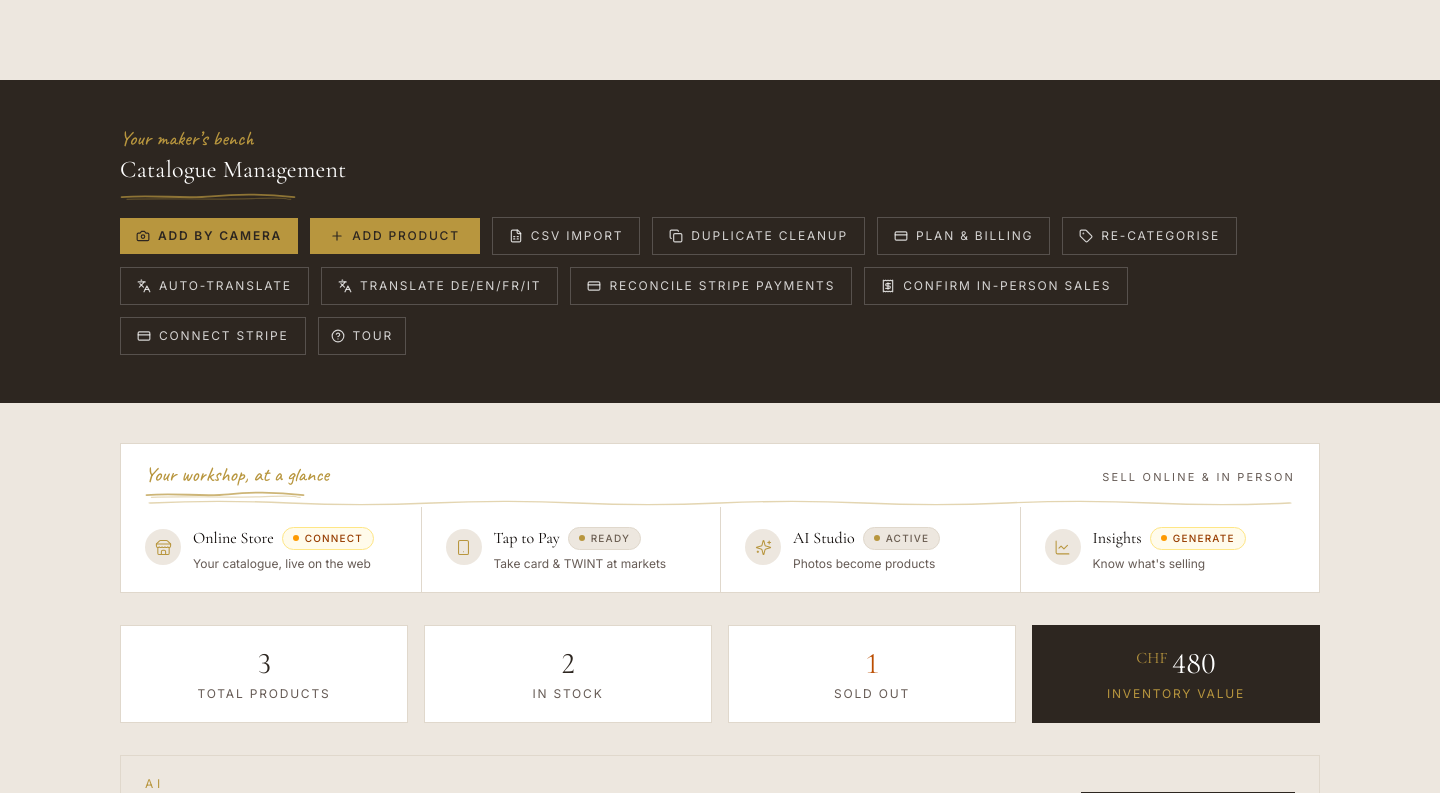
Test: Admin page — add product › checks for duplicates, then creates with parsed values
The width and height of the screenshot is (1440, 793).
Click the button "Add Product" at {"x": 395, "y": 236}, box x1=310 y1=218 x2=480 y2=254
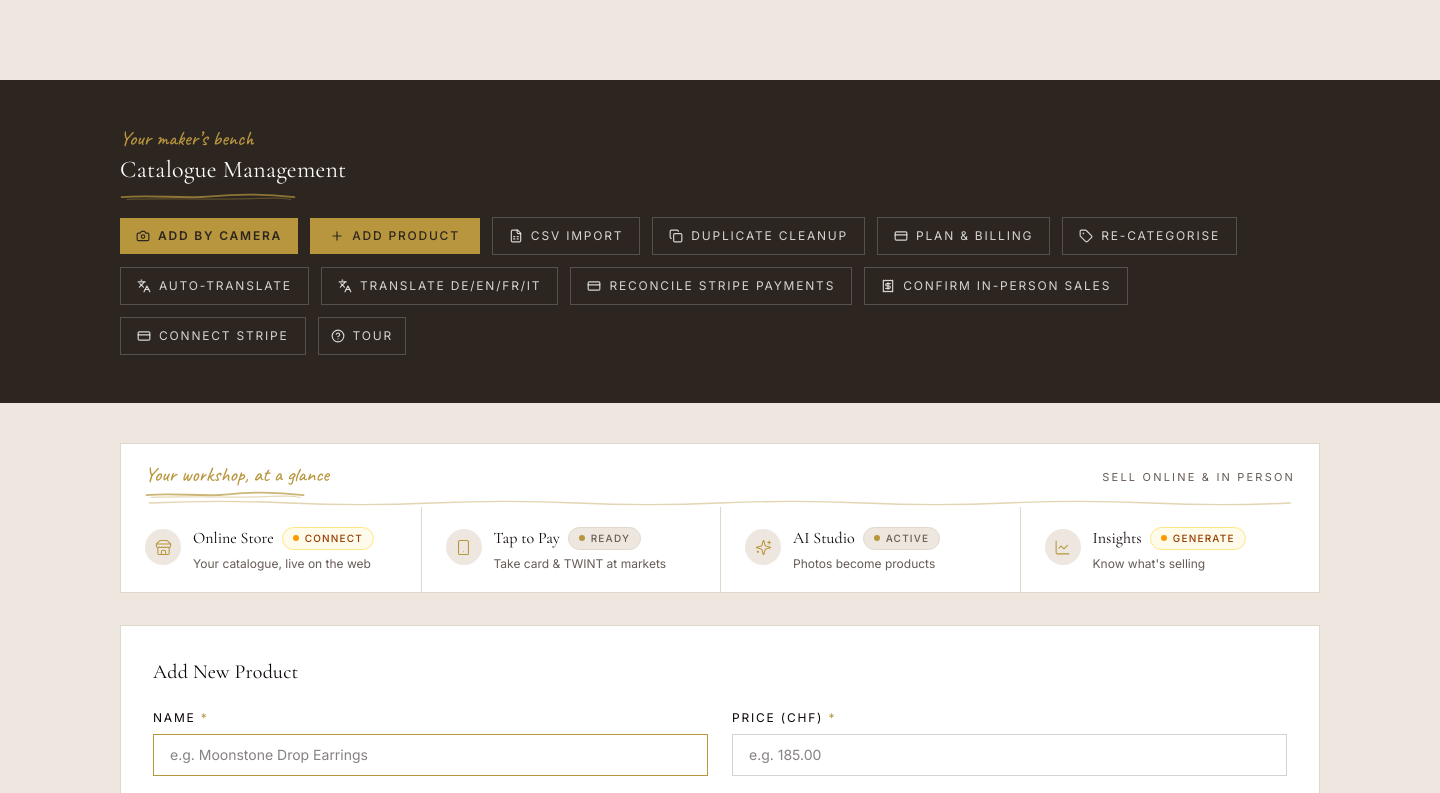
Type "Mondstein Ohrringe" into the field labelled "Name *" at {"x": 430, "y": 755}, box x1=153 y1=734 x2=708 y2=776
Type "185.50" into the number field labelled "Price (CHF) *" at {"x": 1010, "y": 755}, box x1=732 y1=734 x2=1287 y2=776
(page scrolled)
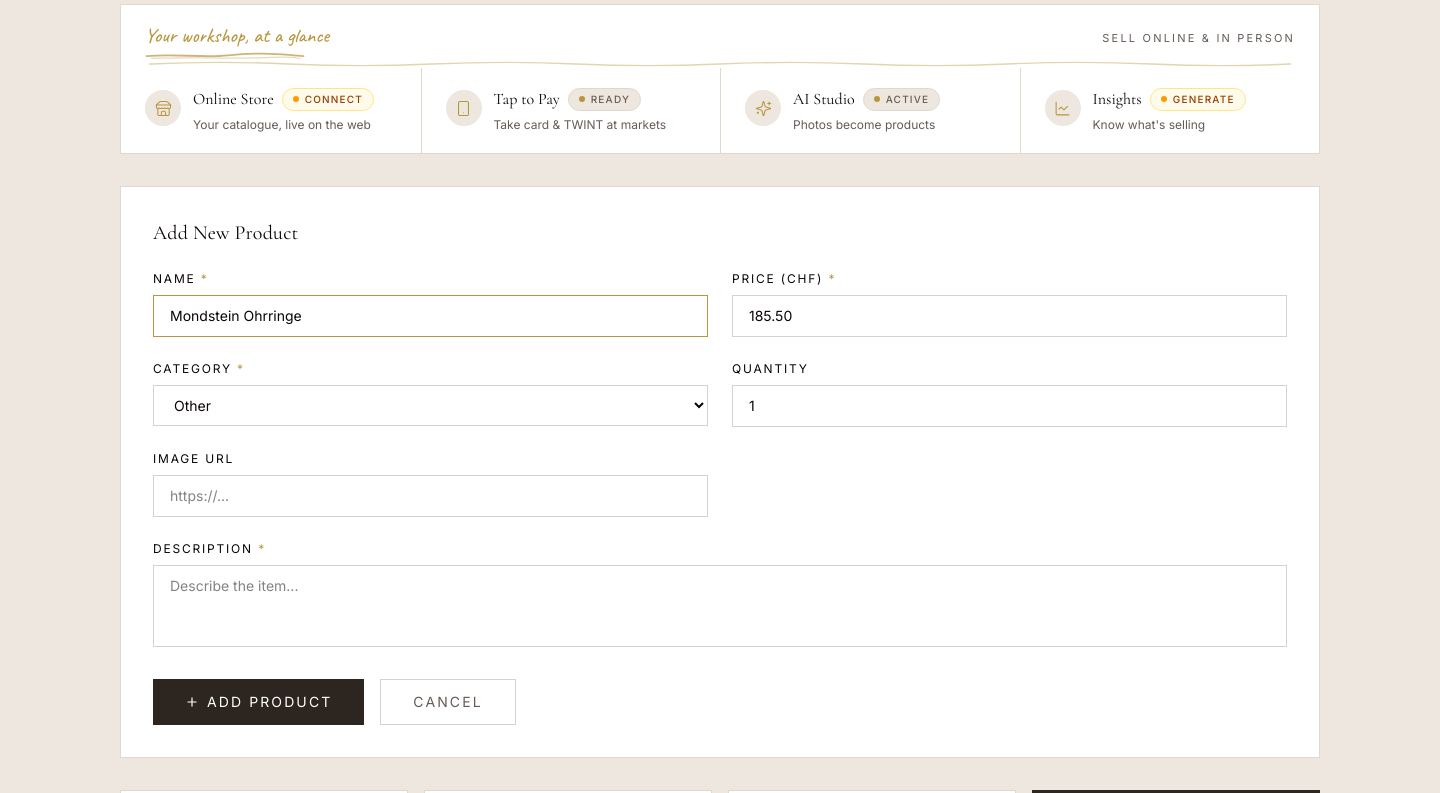
Select "Earrings" in the dropdown labelled "Category *" at {"x": 430, "y": 406}, box x1=153 y1=385 x2=708 y2=426
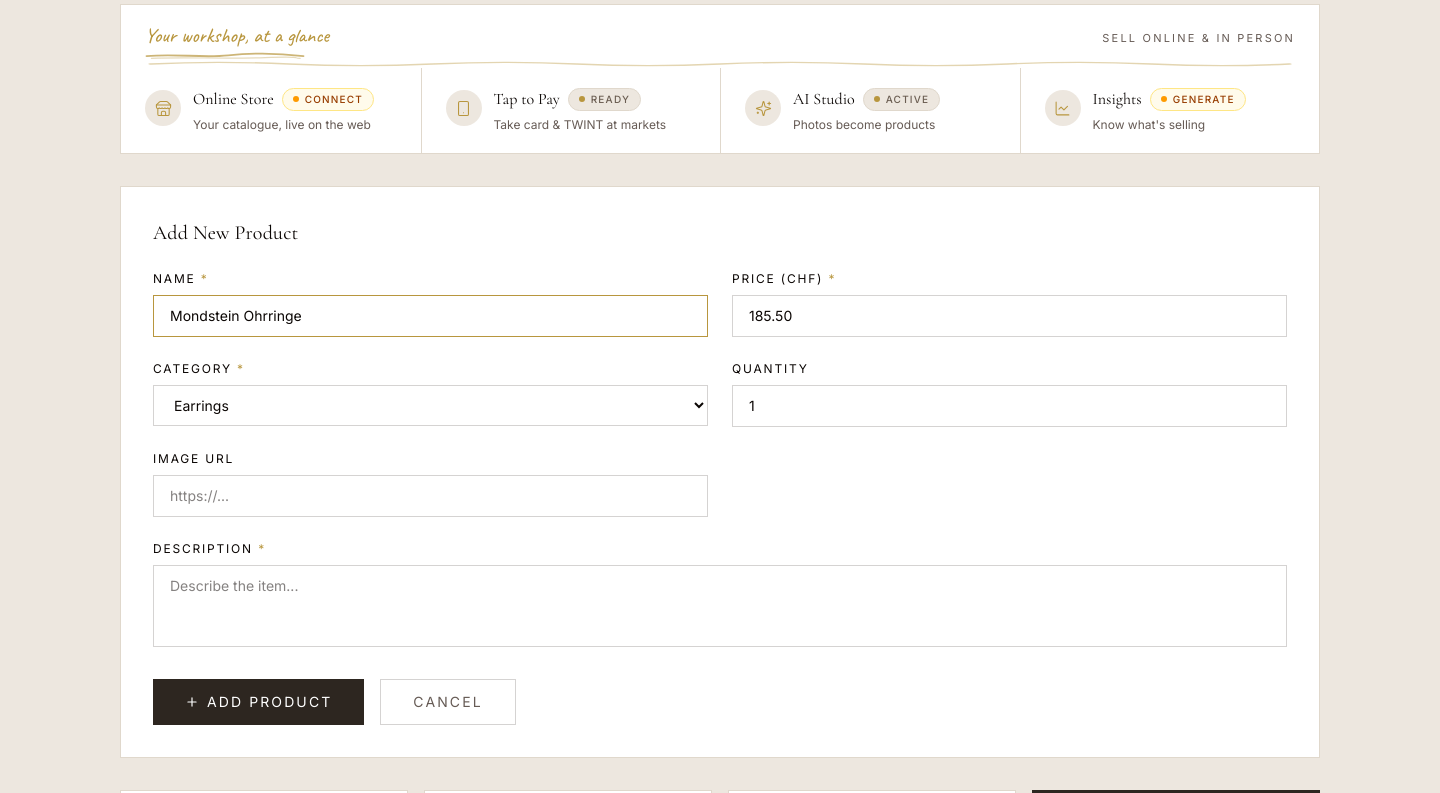
Type "3" into the number field labelled "Quantity" at {"x": 1010, "y": 406}, box x1=732 y1=385 x2=1287 y2=427
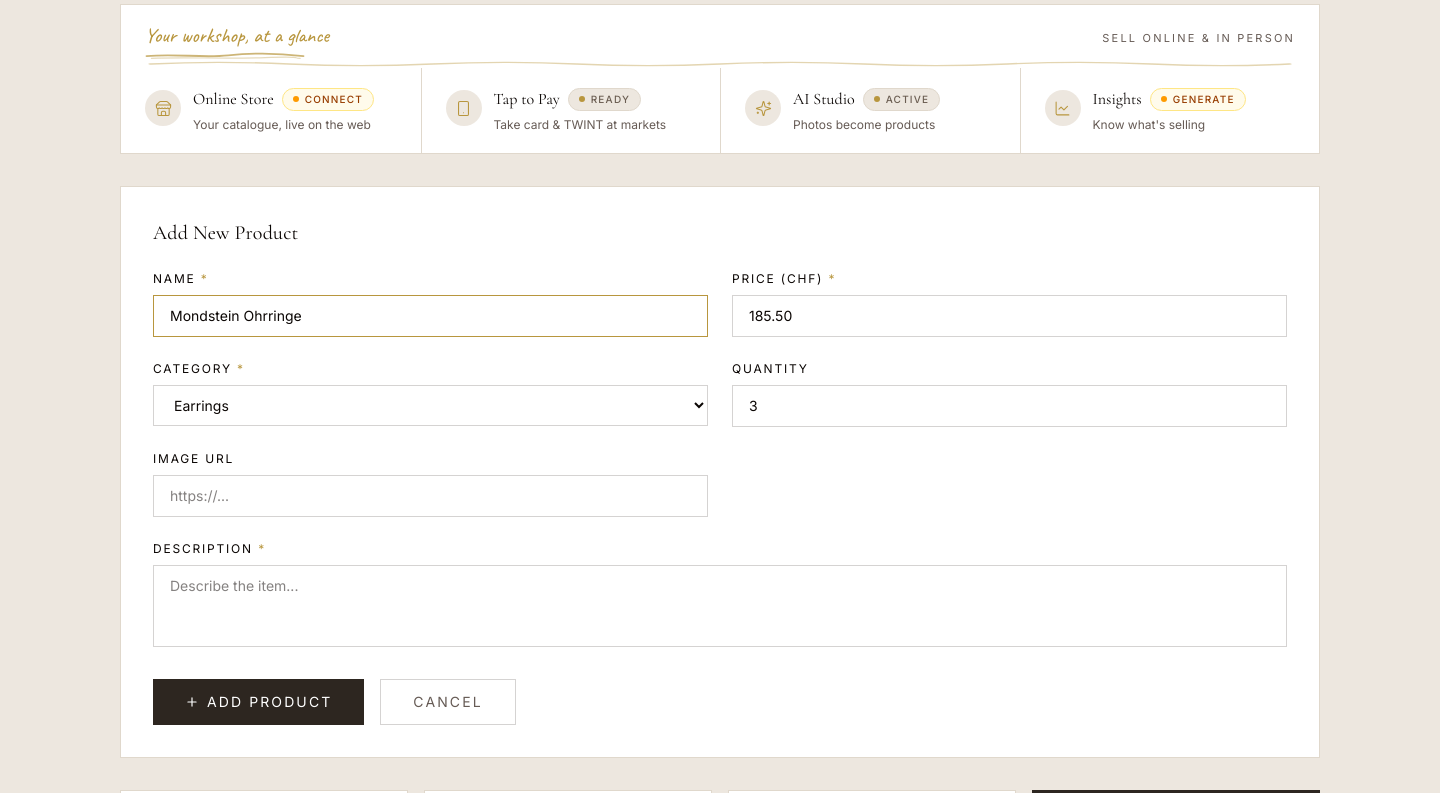
Type "Zarte Ohrringe mit Mondstein" into the text box labelled "Description *" at {"x": 720, "y": 606}, box x1=153 y1=565 x2=1287 y2=647
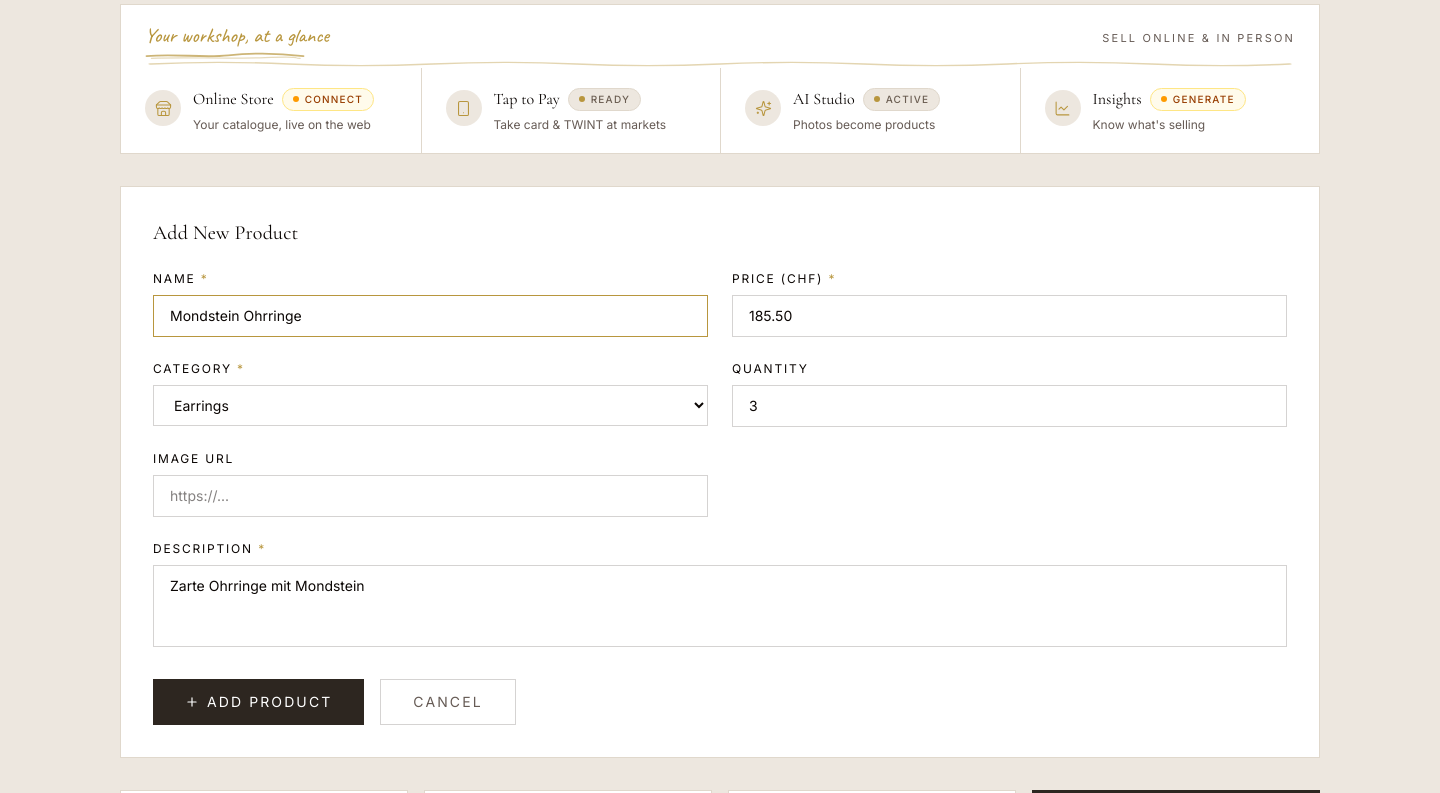
Submit the form, box x1=153 y1=271 x2=1287 y2=725
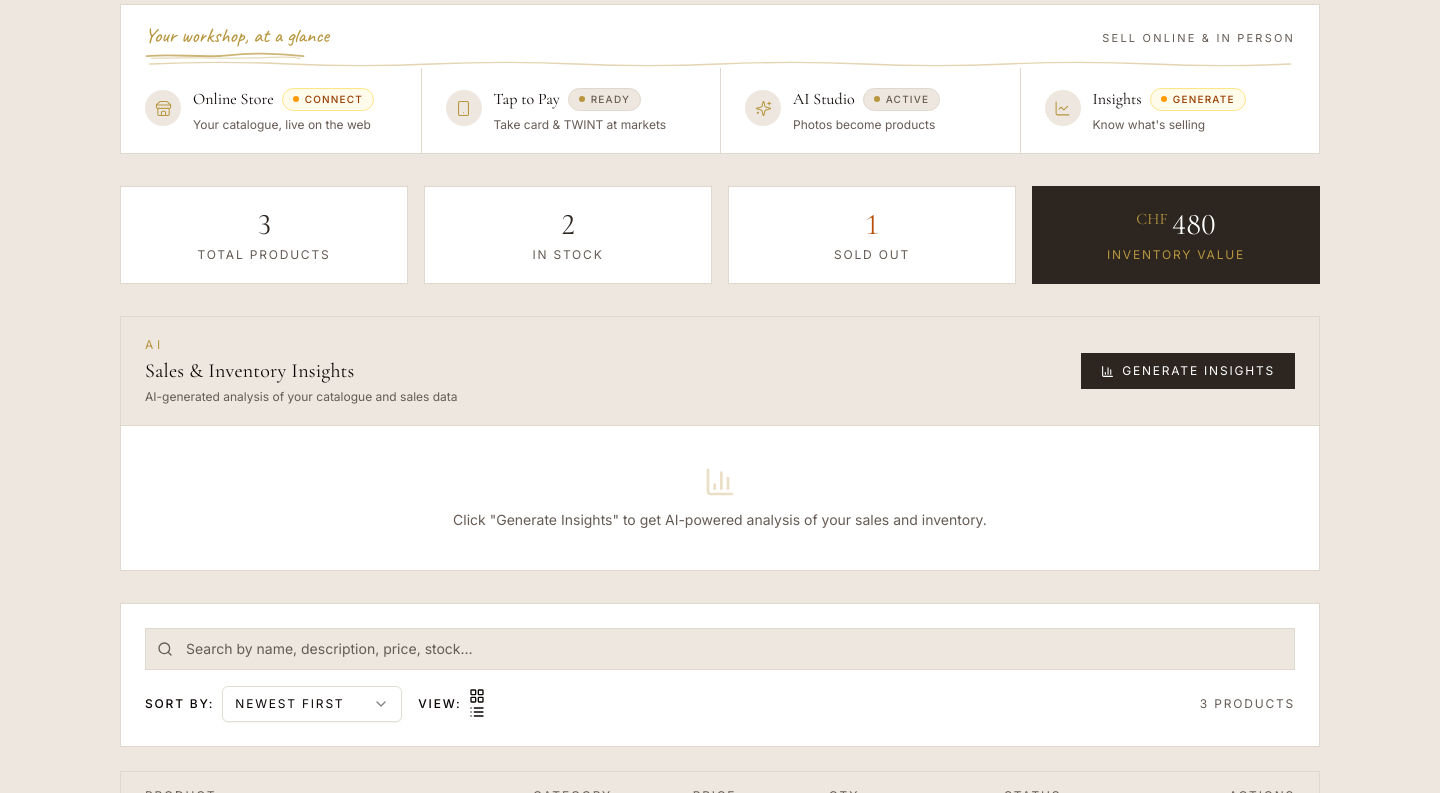
Expected: the heading "Add New Product" is gone
